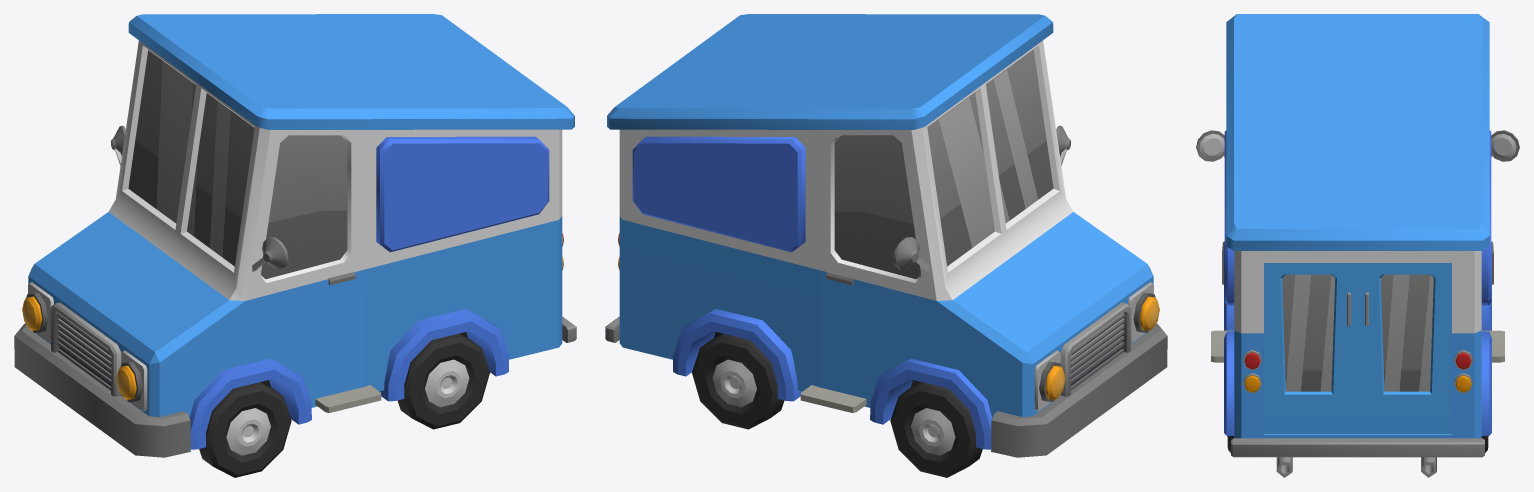
The model's file is Car_15_N.gltf.
3 renders of one model, left to right at view 1: azimuth 30°, elevation 25°; view 2: azimuth 150°, elevation 25°; view 3: azimuth 270°, elevation 25°, orthographic. The views are drawn at different scales.
Visible parts, largest first — view 1: Car_15_N, RL, FL; view 2: Car_15_N, RR, FR; view 3: Car_15_N.
Part boxes in pixels (<box>): Car_15_N: <box>14,14,576,457</box>; RL: <box>397,333,489,429</box>; FL: <box>199,382,291,477</box>; Car_15_N: <box>605,14,1167,457</box>; RR: <box>692,333,784,429</box>; FR: <box>890,382,982,477</box>; Car_15_N: <box>1196,14,1519,477</box>.
Size of the model in its own units: 2.75 by 2.13 by 1.8.
Materials: 4 (4 with a texture image).
